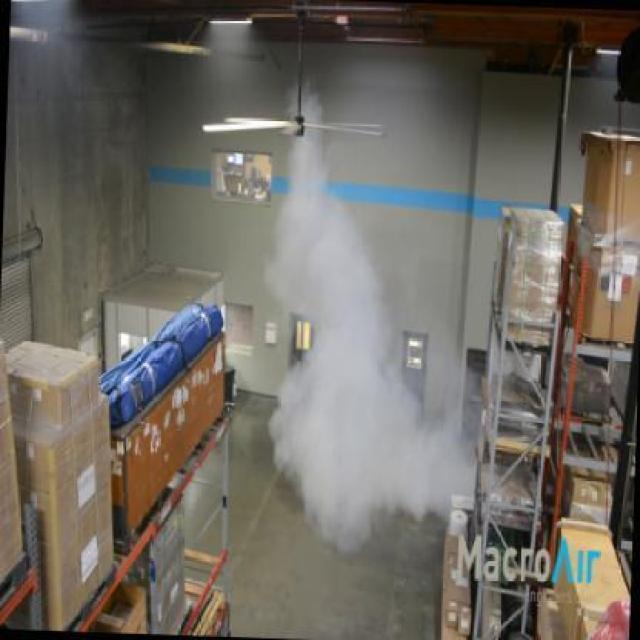fire: (262, 162, 441, 555)
